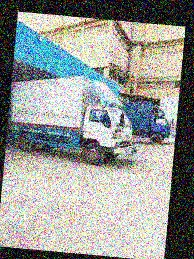truck: (5, 70, 145, 169), (115, 98, 175, 147)
